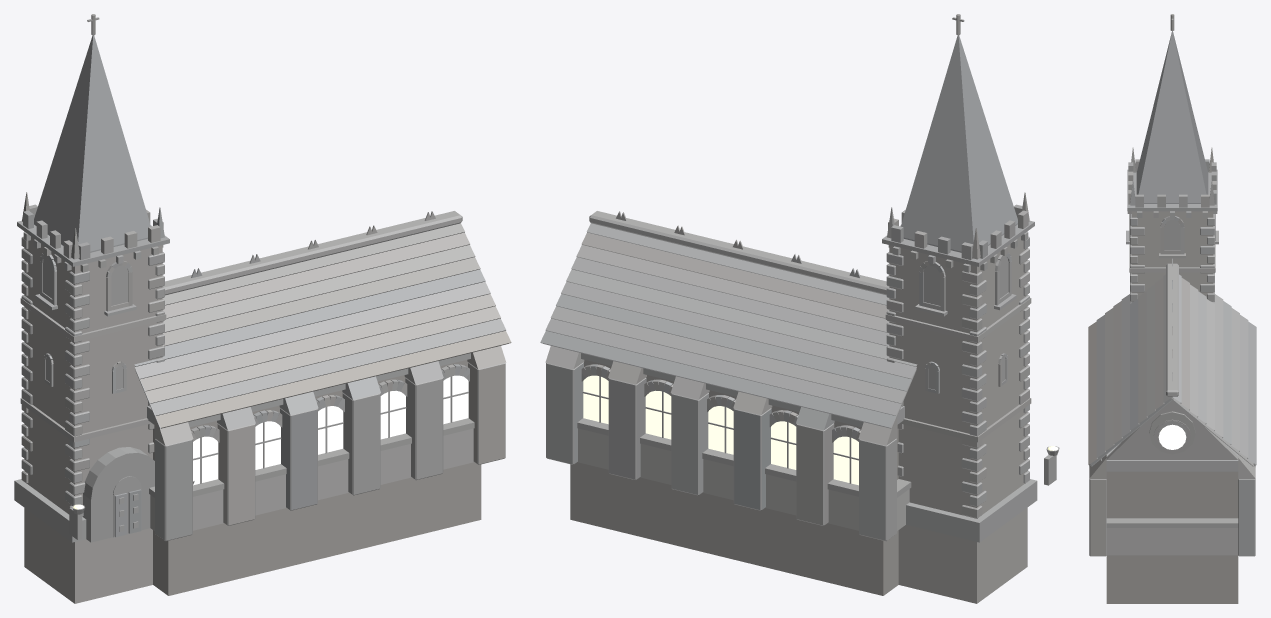
File: church.glb
The picture shows the model from 3 angles, left to right: view 1: azimuth 30°, elevation 25°; view 2: azimuth 150°, elevation 25°; view 3: azimuth 270°, elevation 25°; orthographic projection. The views are drawn at different scales.
Parts seen in each view (by area): view 1: SM_FK_church; view 2: SM_FK_church; view 3: SM_FK_church.
Boxes of the visible parts, x1,y1,x2,y2 form: SM_FK_church: (14, 14, 511, 603); SM_FK_church: (540, 14, 1059, 603); SM_FK_church: (1088, 14, 1256, 603).
Bounding box in the file's own units: 27.28 × 34.2 × 11.51.
